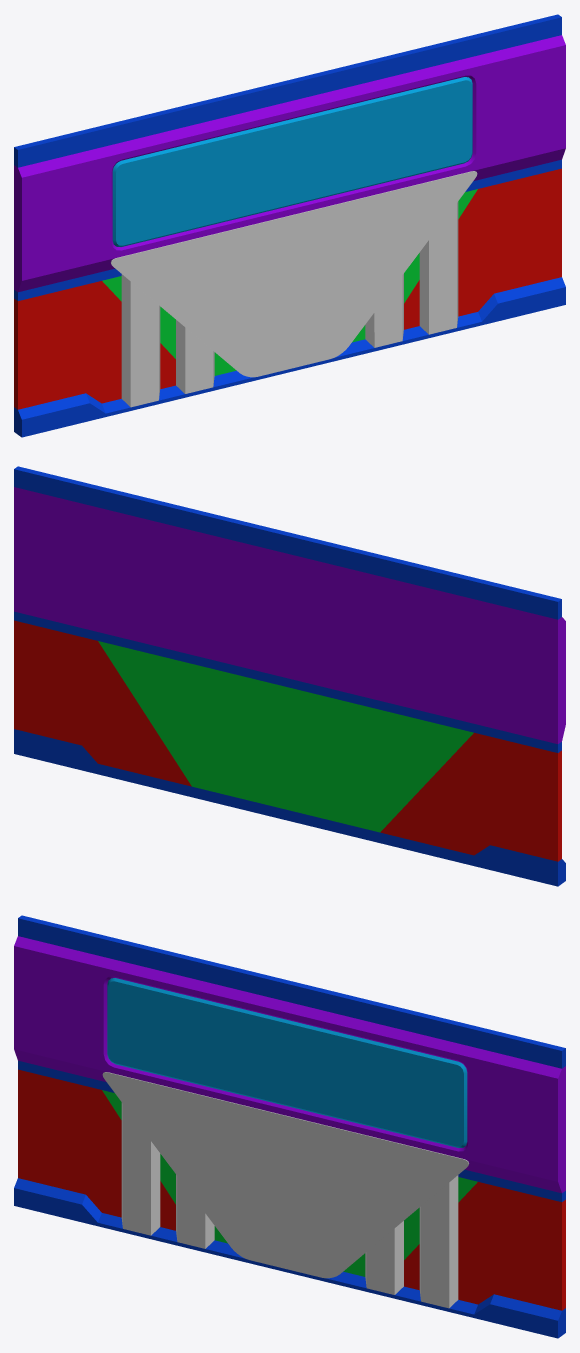
Rendered from Wall_Sci-Fi_01.fbx.
3 views of the same model, one above another, from view 1: azimuth 30°, elevation 25°; view 2: azimuth 150°, elevation 25°; view 3: azimuth 330°, elevation 25° (orthographic).
Visible parts, largest first — view 1: Wall_Body, Wall_Front, Wall_Shaft; view 2: Wall_Body; view 3: Wall_Body, Wall_Front, Wall_Shaft.
Part boxes in pixels (x1=…): Wall_Body: x1=14, y1=14, x2=565, y2=437; Wall_Front: x1=111, y1=171, x2=477, y2=377; Wall_Shaft: x1=121, y1=201, x2=458, y2=407; Wall_Body: x1=14, y1=466, x2=565, y2=886; Wall_Body: x1=14, y1=915, x2=565, y2=1338; Wall_Front: x1=102, y1=1072, x2=468, y2=1278; Wall_Shaft: x1=121, y1=1102, x2=458, y2=1308.
Size of the model in its own units: 400 by 200 by 10.5.
